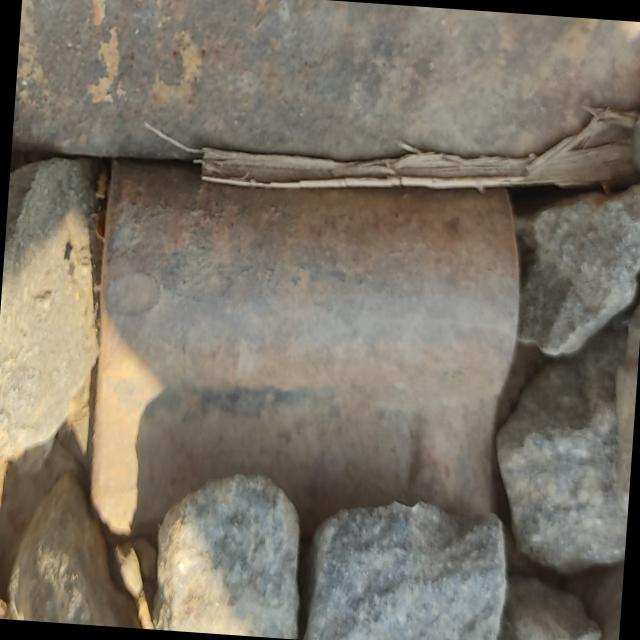track_bolt_missing: (86, 154, 534, 430)
